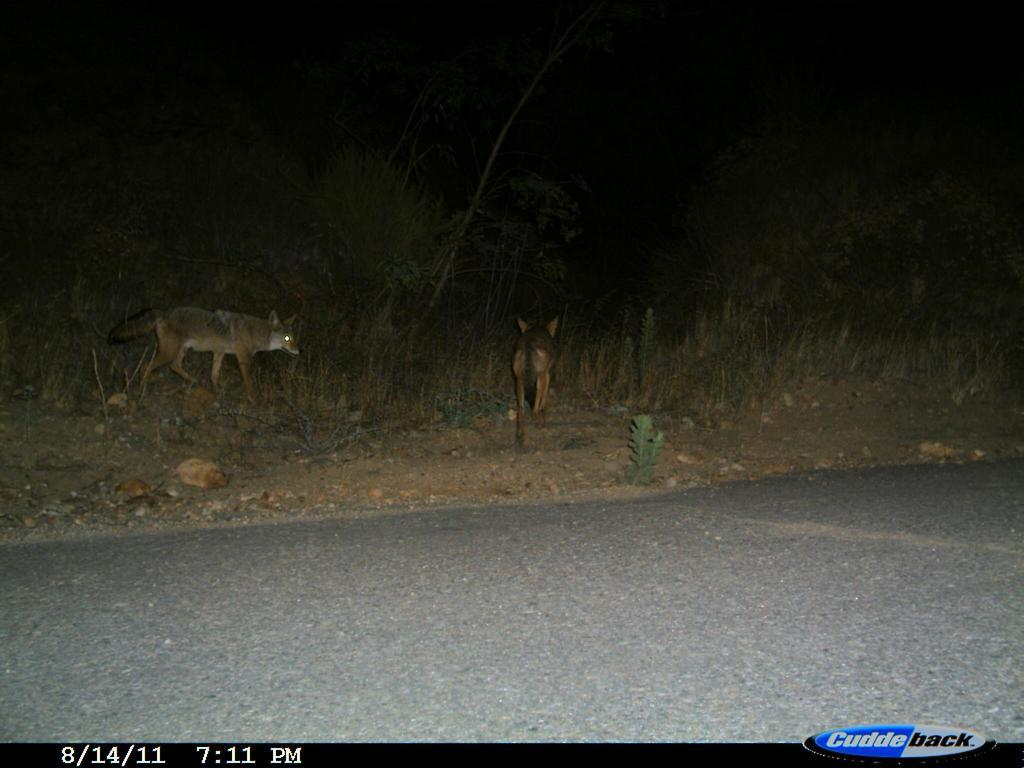coyote: (102, 301, 312, 408), (497, 305, 570, 455)
